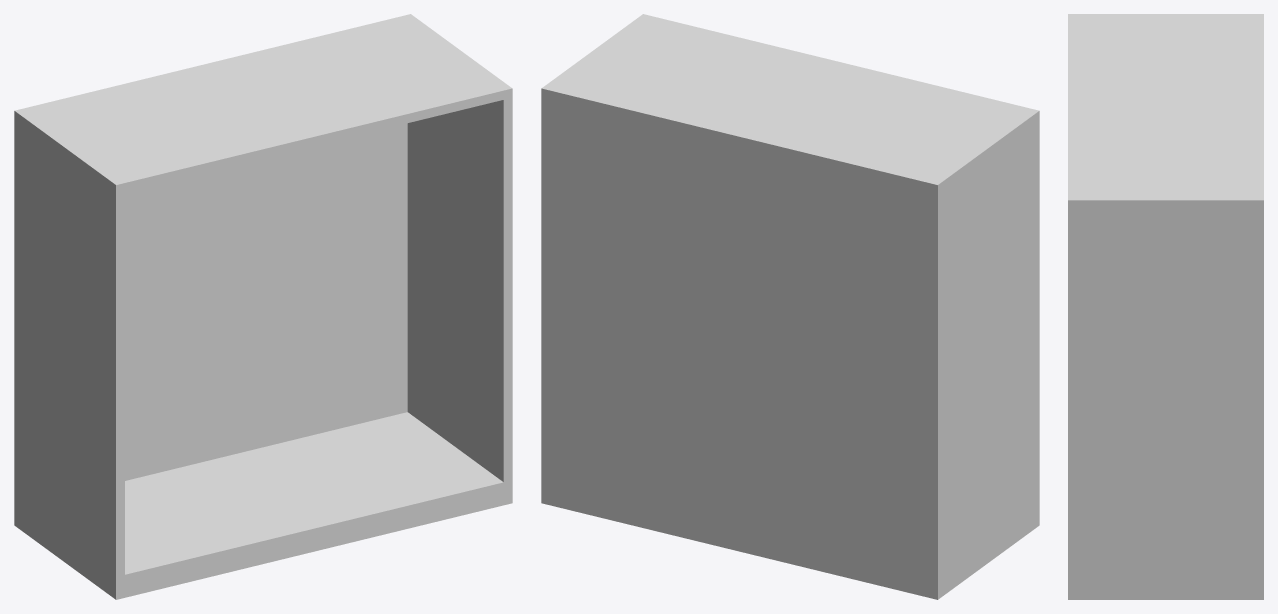
File: Dresser1_C3.fbx
3 views of the same model, side by side, from view 1: azimuth 30°, elevation 25°; view 2: azimuth 150°, elevation 25°; view 3: azimuth 270°, elevation 25° (orthographic). The views are drawn at different scales.
Visible parts, largest first — view 1: Dresser1_C3; view 2: Dresser1_C3; view 3: Dresser1_C3.
Part boxes in pixels (x1,y1,x2,y2): Dresser1_C3: (14,14,512,599); Dresser1_C3: (541,14,1039,599); Dresser1_C3: (1068,14,1263,599).
Size of the model in its own units: 90 by 90 by 40.
